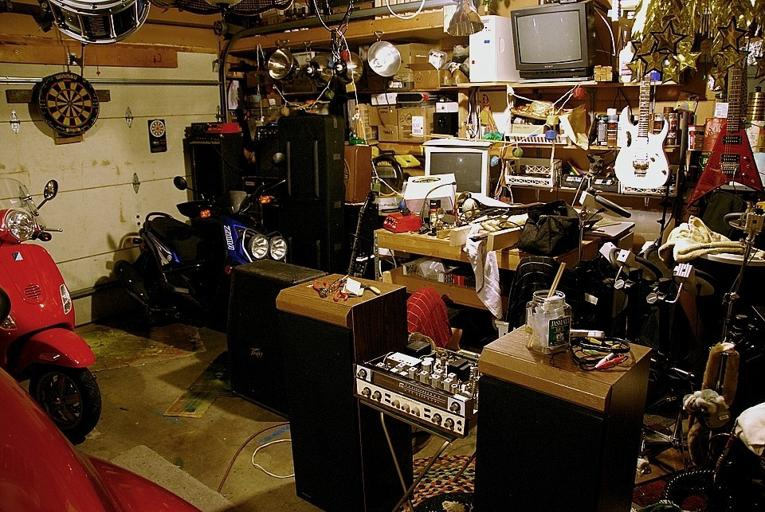non-vehicle: (0, 171, 104, 447), (110, 168, 289, 327)
